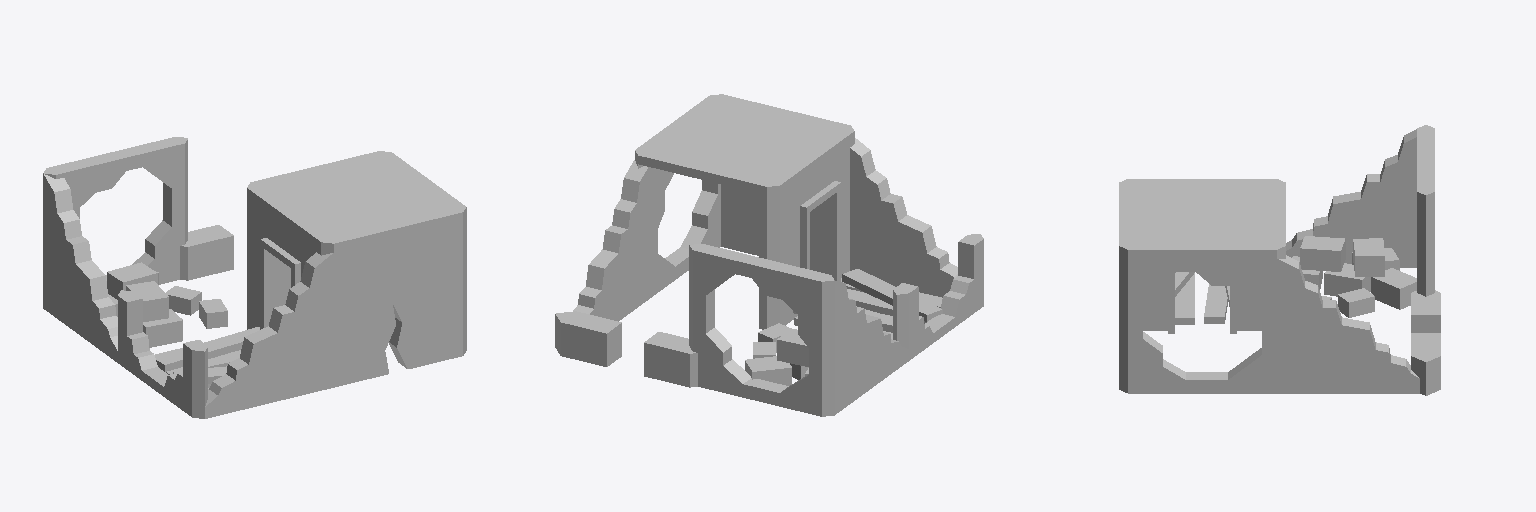
Rendered from Casa 13 Semi Rota.obj.
The picture shows the model from 3 angles: view 1: azimuth 30°, elevation 25°; view 2: azimuth 150°, elevation 25°; view 3: azimuth 270°, elevation 25°; orthographic projection.
Size of the model in its own units: 2.17 by 1.06 by 2.17.